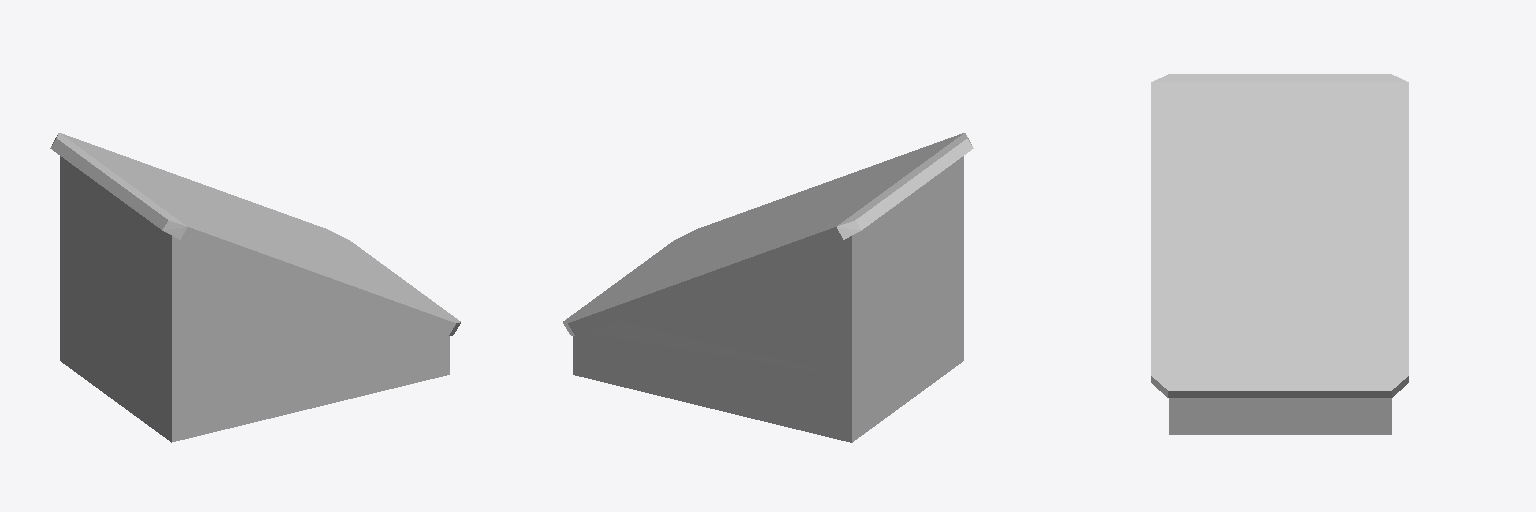
File: JumpRamp.obj
3 renders of one model, left to right at view 1: azimuth 30°, elevation 25°; view 2: azimuth 150°, elevation 25°; view 3: azimuth 270°, elevation 25°, orthographic.
Visible parts, largest first — view 1: cmn_obj_jumppanel_dif_SD, cmn_obj_jumpbelt_dif_SD, cmn_obj_dashpanel_dif_SD; view 2: cmn_obj_jumppanel_dif_SD, cmn_obj_jumpbelt_dif_SD, cmn_obj_dashpanel_dif_SD; view 3: cmn_obj_jumppanel_dif_SD, cmn_obj_jumpbelt_dif_SD.
Part boxes in pixels (x1,y1,x2,y2): cmn_obj_jumppanel_dif_SD: (50, 133, 460, 442); cmn_obj_jumpbelt_dif_SD: (67, 151, 405, 295); cmn_obj_dashpanel_dif_SD: (210, 251, 347, 326); cmn_obj_jumppanel_dif_SD: (563, 133, 973, 442); cmn_obj_jumpbelt_dif_SD: (618, 151, 956, 295); cmn_obj_dashpanel_dif_SD: (676, 251, 813, 326); cmn_obj_jumppanel_dif_SD: (1151, 74, 1408, 434); cmn_obj_jumpbelt_dif_SD: (1201, 74, 1358, 348).
Size of the model in its own units: 24.54 by 17.47 by 18.28.